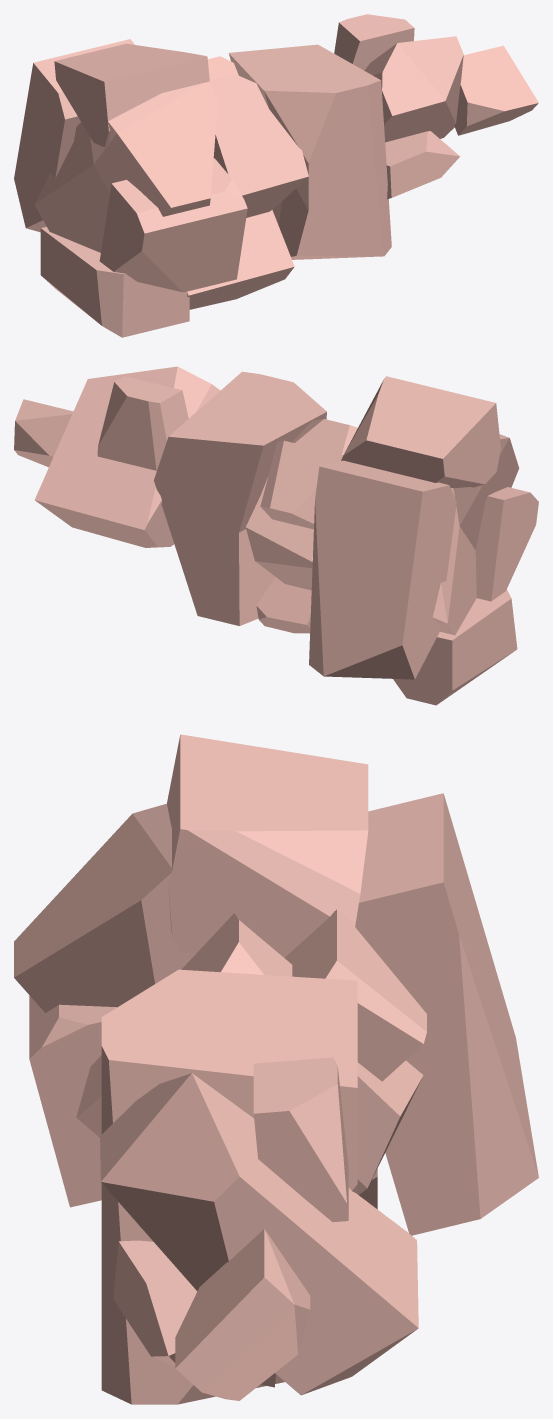
Rendered from Mega_Asset_s_Pack_Cube_226.FBX.
3 renders of one model, top to bottom at view 1: azimuth 30°, elevation 25°; view 2: azimuth 150°, elevation 25°; view 3: azimuth 270°, elevation 25°, orthographic. The views are drawn at different scales.
Parts seen in each view (by area): view 1: Mega_Asset_s_Pack_Cube_226; view 2: Mega_Asset_s_Pack_Cube_226; view 3: Mega_Asset_s_Pack_Cube_226.
Part boxes in pixels (<box>): Mega_Asset_s_Pack_Cube_226: <box>14,14,538,337</box>; Mega_Asset_s_Pack_Cube_226: <box>14,366,538,705</box>; Mega_Asset_s_Pack_Cube_226: <box>14,734,538,1404</box>.
Size of what is drawn, in the model's own units: 310 by 168 by 168.
